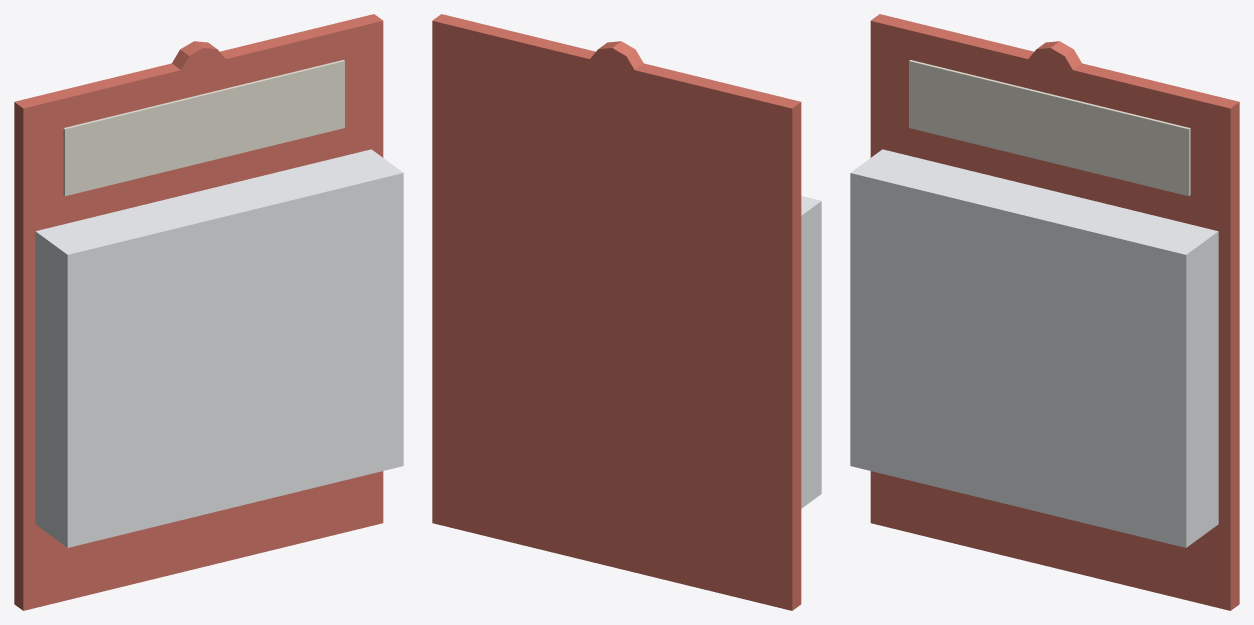
Rendered from supply_batteries.glb.
The picture shows the model from 3 angles, left to right: view 1: azimuth 30°, elevation 25°; view 2: azimuth 150°, elevation 25°; view 3: azimuth 330°, elevation 25°; orthographic projection.
Visible parts, largest first — view 1: Batteries; view 2: Batteries; view 3: Batteries.
Part boxes in pixels (x1=…): Batteries: x1=14, y1=14, x2=403, y2=610; Batteries: x1=432, y1=14, x2=821, y2=610; Batteries: x1=850, y1=14, x2=1239, y2=610.
Size of the model in its own units: 0.09 by 0.124 by 0.018.
